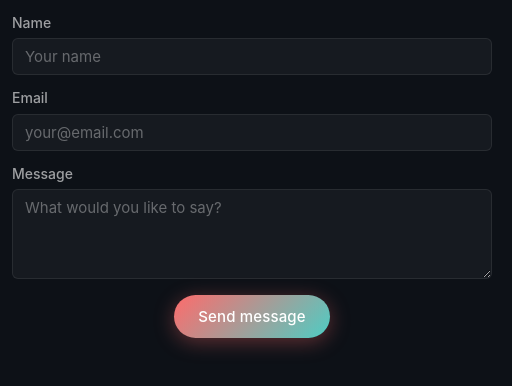
ContactForm › submission › shows error message when request fails
The width and height of the screenshot is (512, 386).
In the field labelled "Name": (252, 57) [12, 38, 492, 75], type "Alastair"
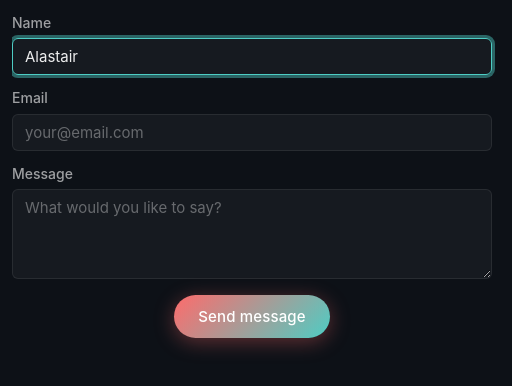
In the field labelled "Email": (252, 132) [12, 114, 492, 151], type "test@example.com"
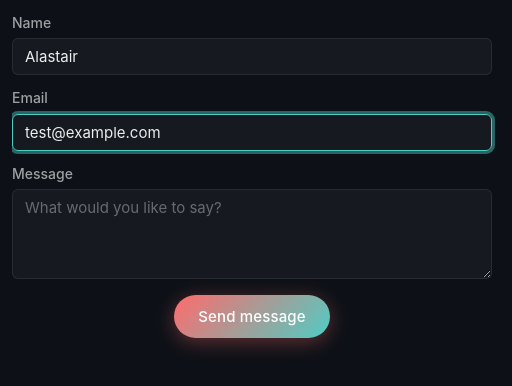
In the text box labelled "Message": (252, 234) [12, 189, 492, 279], type "Hello there"
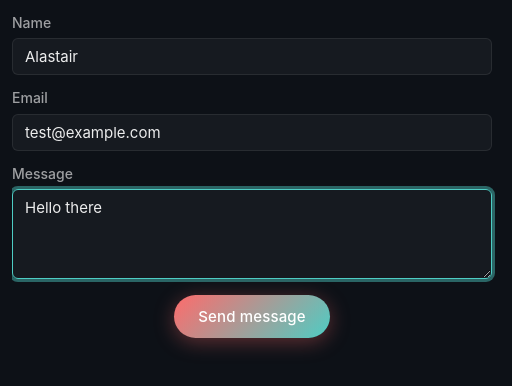
Click the button "Send message": (252, 317) [174, 295, 330, 338]
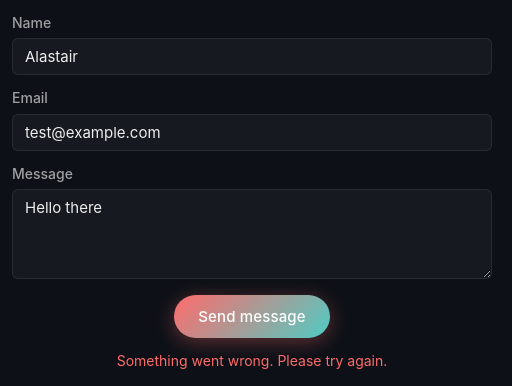
expect the text "Something went wrong. Please try again." is shown: met, box [117, 352, 387, 369]
